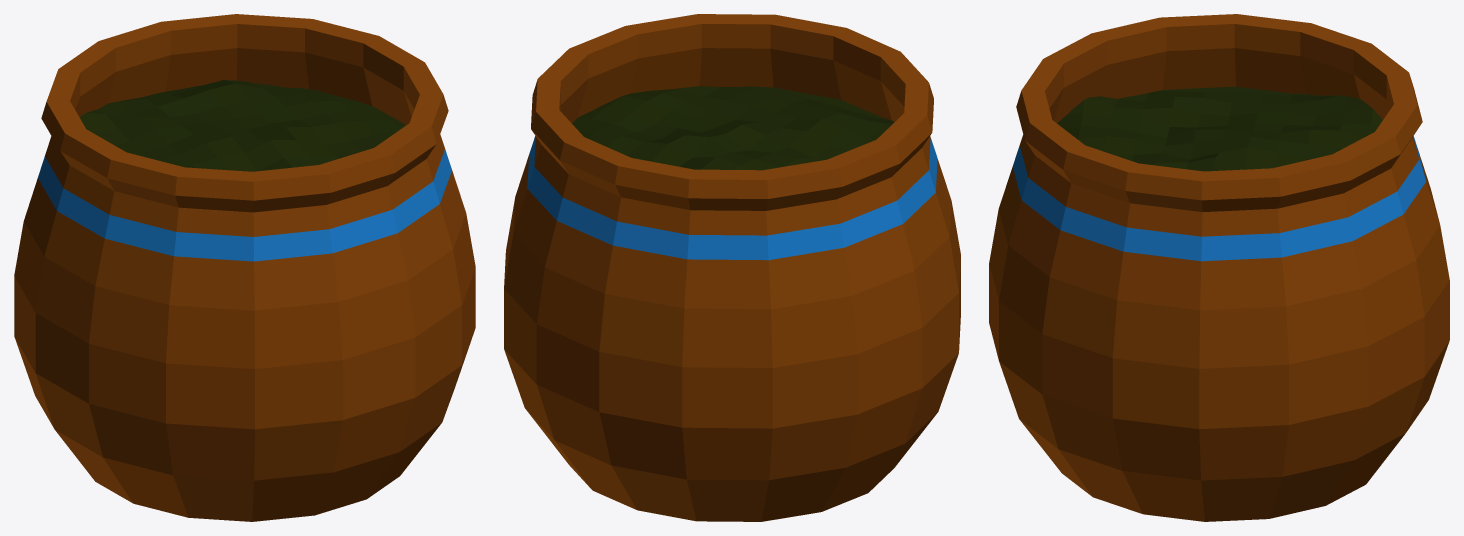
File: pot_blue.glb
3 renders of one model, left to right at view 1: azimuth 30°, elevation 25°; view 2: azimuth 150°, elevation 25°; view 3: azimuth 270°, elevation 25°, orthographic.
Parts seen in each view (by area): view 1: pot_blue, dirt; view 2: pot_blue, dirt; view 3: pot_blue, dirt.
Part boxes in pixels (x1,y1,x2,y2): pot_blue: (14,14,475,521); dirt: (79,80,406,171); pot_blue: (504,14,960,521); dirt: (572,86,894,170); pot_blue: (989,14,1449,521); dirt: (1057,86,1382,171).
Size of the model in its own units: 1.6 by 1.36 by 1.6.
